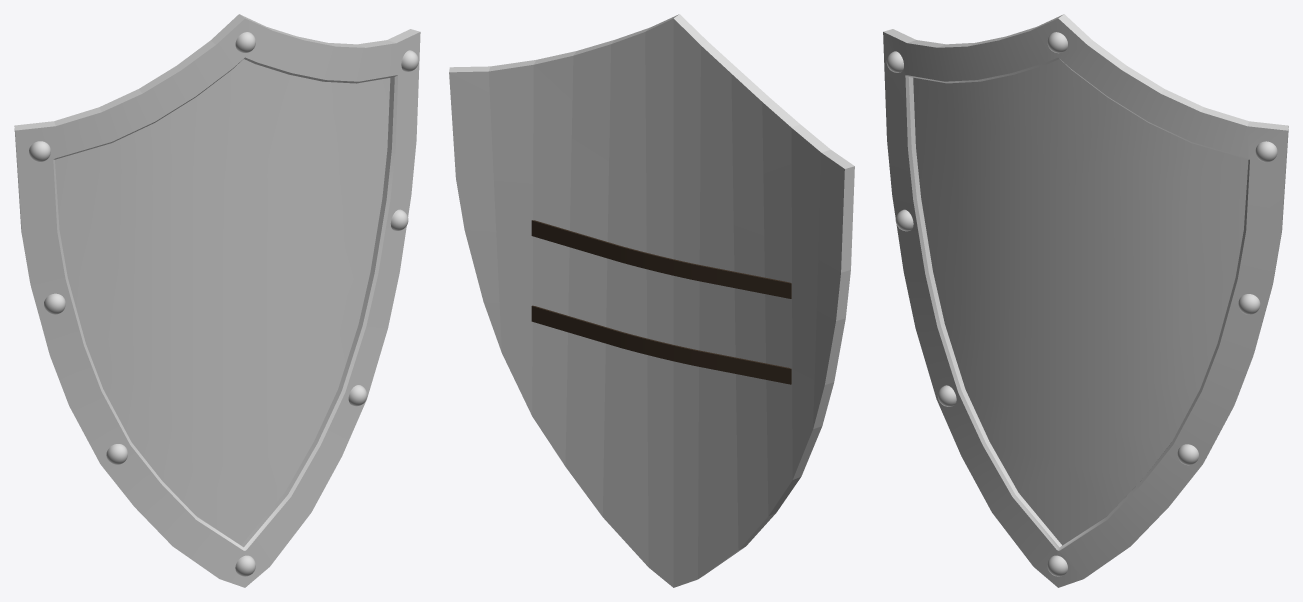
File: shild.fbx
3 views of the same model, side by side, from view 1: azimuth 30°, elevation 25°; view 2: azimuth 150°, elevation 25°; view 3: azimuth 330°, elevation 25° (orthographic).
Visible parts, largest first — view 1: Plane002; view 2: Plane002, Object001; view 3: Plane002.
Part boxes in pixels (left/top/right/bottom): Plane002: left=14, top=14, right=420, bottom=587; Plane002: left=449, top=14, right=854, bottom=587; Object001: left=531, top=220, right=791, bottom=384; Plane002: left=883, top=14, right=1288, bottom=587.
Bounding box in the file's own units: 868 × 1166 × 141.
